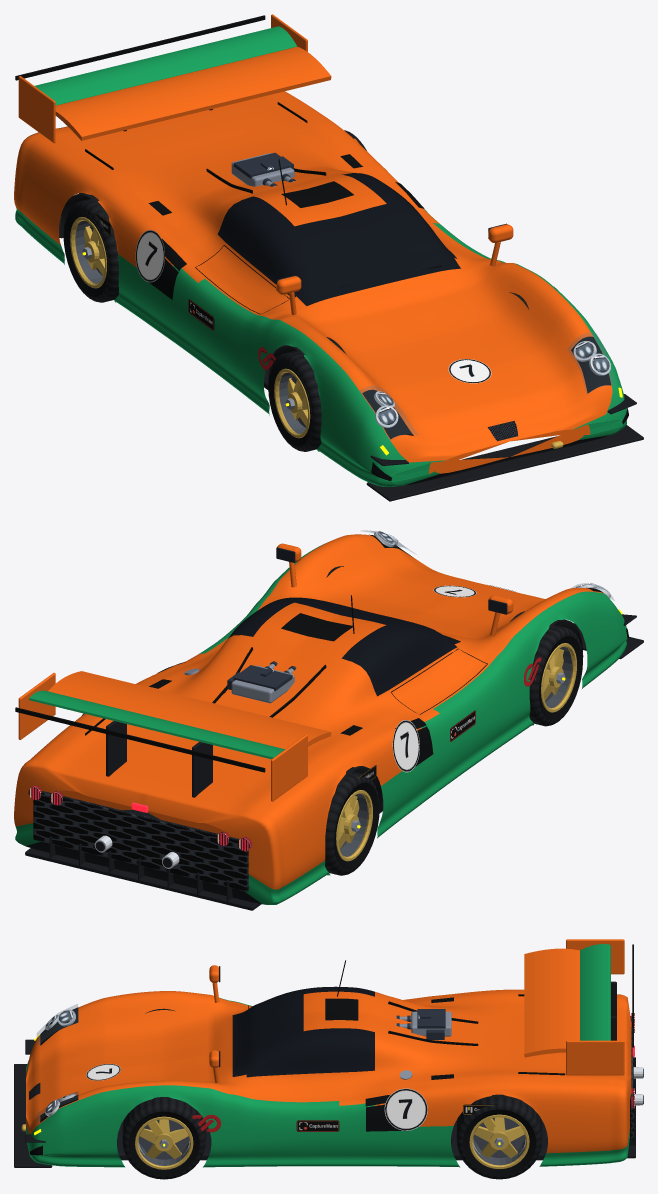
The model's file is rotora_gtp.glb.
3 views of the same model, one above another, from view 1: azimuth 30°, elevation 25°; view 2: azimuth 150°, elevation 25°; view 3: azimuth 270°, elevation 25° (orthographic). The views are drawn at different scales.
Parts seen in each view (by area): view 1: chassis, wheel_RR, wheel_FR, gun, decals; view 2: chassis, wheel_RR, wheel_FR, gun, decals; view 3: chassis, wheel_RL, wheel_FL, gun, decals.
Part boxes in pixels (bbox=[...]): chassis: bbox=[14, 14, 643, 501]; wheel_RR: bbox=[63, 199, 118, 302]; wheel_FR: bbox=[268, 350, 321, 451]; gun: bbox=[231, 152, 295, 186]; decals: bbox=[90, 208, 275, 371]; chassis: bbox=[14, 530, 643, 910]; wheel_RR: bbox=[325, 772, 379, 875]; wheel_FR: bbox=[529, 625, 582, 726]; gun: bbox=[227, 661, 296, 703]; decals: bbox=[355, 657, 541, 791]; chassis: bbox=[14, 939, 643, 1167]; wheel_RL: bbox=[456, 1097, 542, 1179]; wheel_FL: bbox=[122, 1098, 205, 1179]; gun: bbox=[395, 1009, 451, 1039]; decals: bbox=[192, 1104, 497, 1132].
Size of the model in its own units: 2.07 by 1.37 by 4.95.
Materials: 30 (9 with a texture image).
